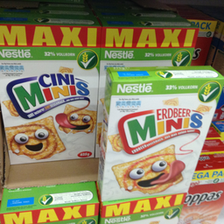cereal: (96, 65, 224, 201), (1, 16, 101, 165)
